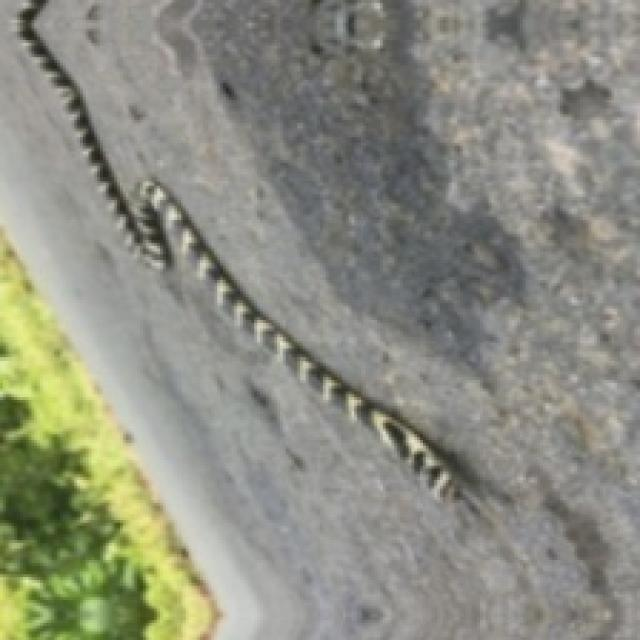king cobra: (0, 0, 637, 637), (0, 0, 560, 637)
